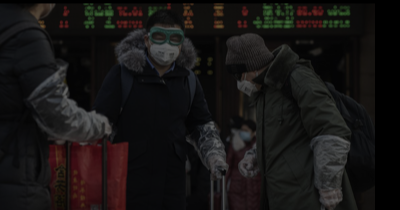with_mask: (148, 25, 183, 66), (234, 69, 258, 96), (238, 127, 253, 142)
